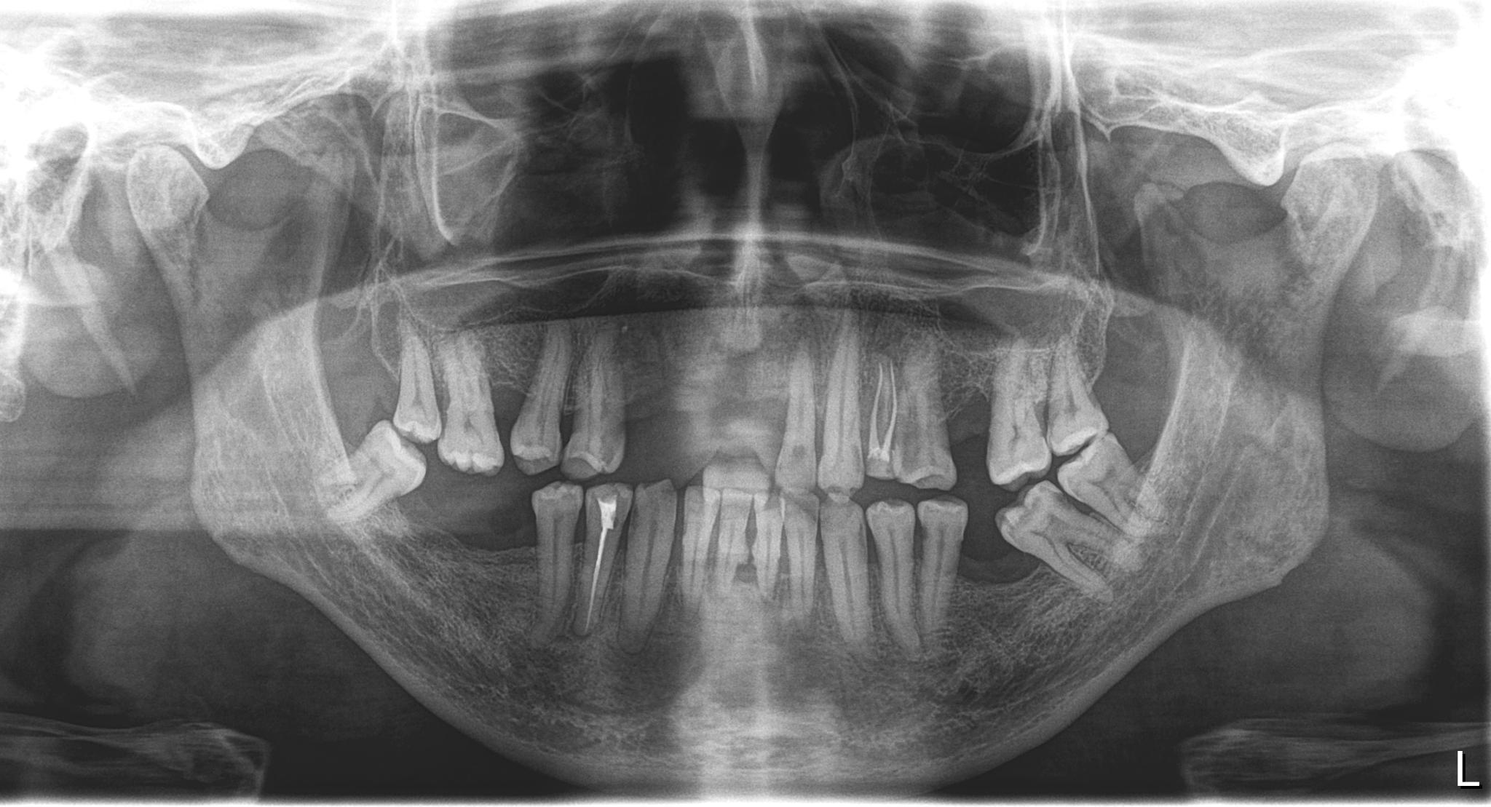Endodontically Treated Tooth: (861, 357, 908, 472), (595, 489, 624, 626)
Impacted Third Molar: (306, 449, 423, 518)
Missing Tooth: (322, 317, 395, 422), (1096, 322, 1170, 418), (966, 537, 1021, 648), (630, 351, 684, 464), (684, 340, 730, 472), (737, 338, 783, 469), (437, 478, 480, 598), (490, 489, 532, 611), (946, 371, 988, 479)
